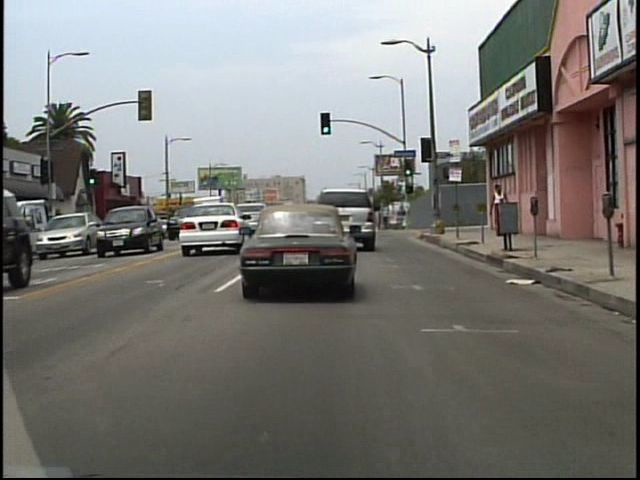person: (488, 182, 511, 238)
